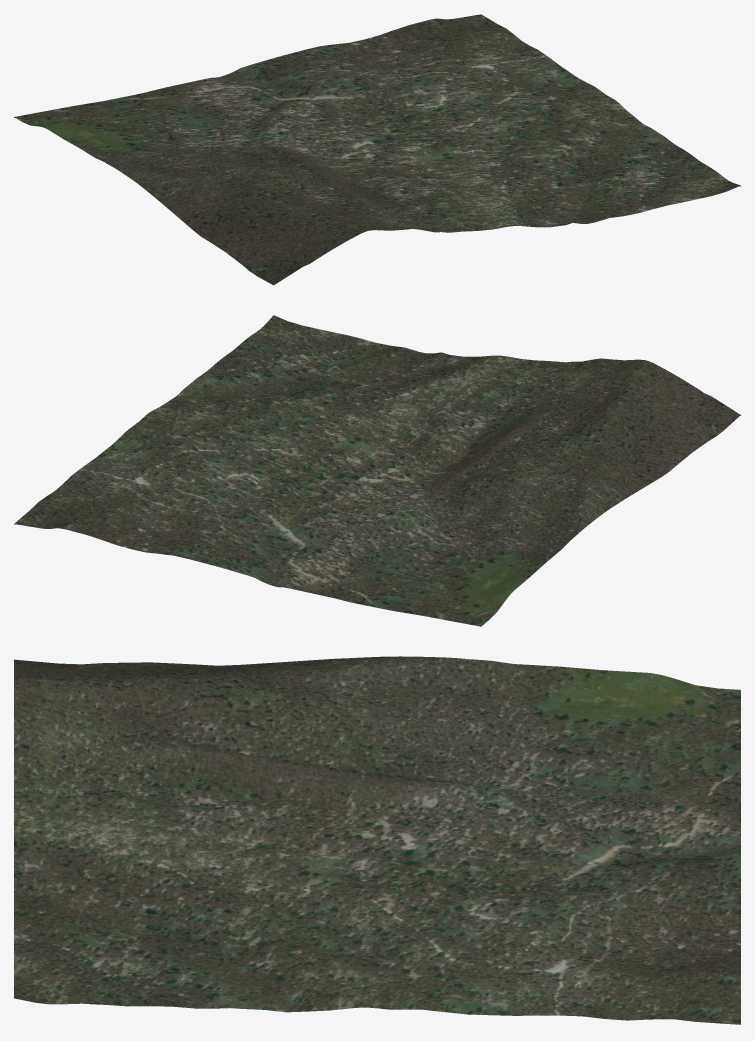
The picture shows the model from 3 angles, top to bottom: view 1: azimuth 30°, elevation 25°; view 2: azimuth 150°, elevation 25°; view 3: azimuth 270°, elevation 25°; orthographic projection. The views are drawn at different scales.
Bounding box in the file's own units: 1000 × 134 × 963.
Materials: 1 (1 with a texture image).
